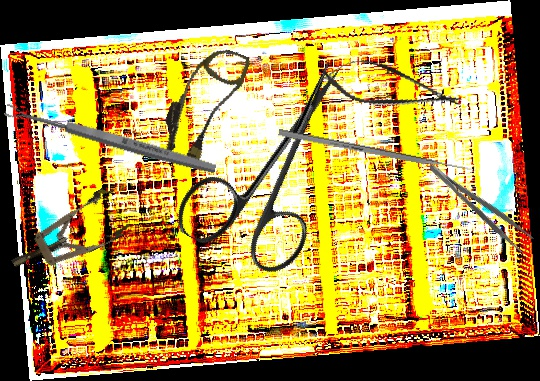Cannula: (153, 37, 252, 175)
Dressing Forceps: (425, 153, 537, 256)
Iris Scissors: (168, 32, 388, 288)
Micro Scissor: (317, 50, 467, 124)
Pusher: (278, 128, 477, 175)
Speculum: (0, 183, 135, 287)
Surgical Spoon: (3, 101, 218, 177)
